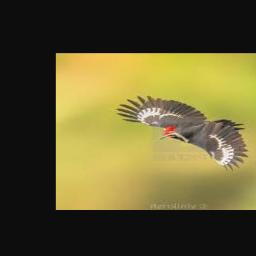Woodpecker: (115, 96, 249, 171)
